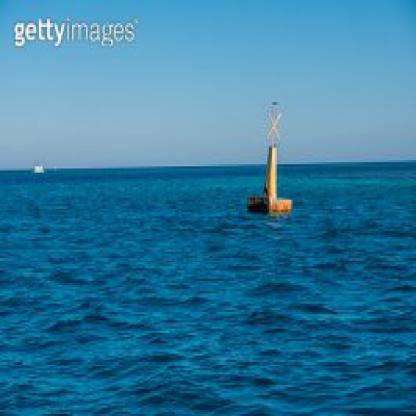buoy: (235, 93, 304, 220)
